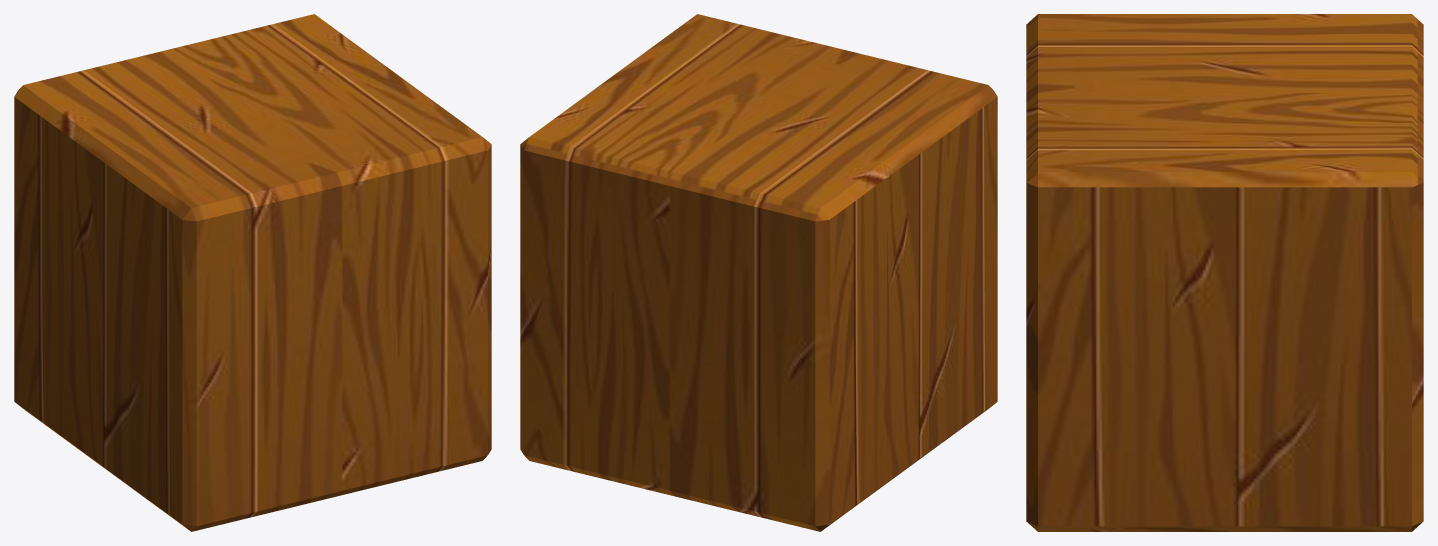
The model's file is emptyBox.fbx.
3 views of the same model, side by side, from view 1: azimuth 30°, elevation 25°; view 2: azimuth 150°, elevation 25°; view 3: azimuth 270°, elevation 25° (orthographic). The views are drawn at different scales.
Parts seen in each view (by area): view 1: pCube7; view 2: pCube7; view 3: pCube7.
Part boxes in pixels (x1,y1,x2,y2): pCube7: [14, 14, 491, 531]; pCube7: [520, 14, 997, 531]; pCube7: [1026, 14, 1423, 531].
Bounding box in the file's own units: 3.33 × 3.33 × 3.33.
Materials: 1 (1 with a texture image).
